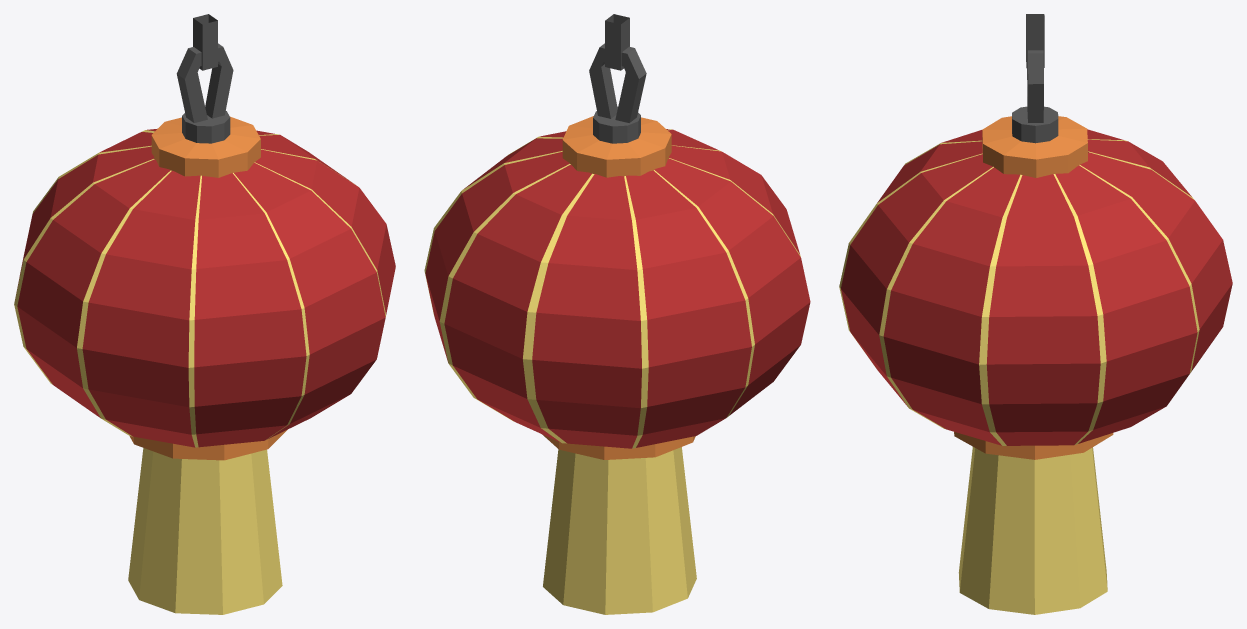
Rendered from Lantern_2.fbx.
3 renders of one model, left to right at view 1: azimuth 30°, elevation 25°; view 2: azimuth 150°, elevation 25°; view 3: azimuth 270°, elevation 25°, orthographic.
Parts seen in each view (by area): view 1: Lantern_2; view 2: Lantern_2; view 3: Lantern_2.
Boxes of the visible parts, x1=… form: Lantern_2: x1=14, y1=14, x2=395, y2=614; Lantern_2: x1=424, y1=14, x2=810, y2=614; Lantern_2: x1=839, y1=14, x2=1232, y2=614.
Size of the model in its own units: 58.54 by 61.14 by 96.82.
